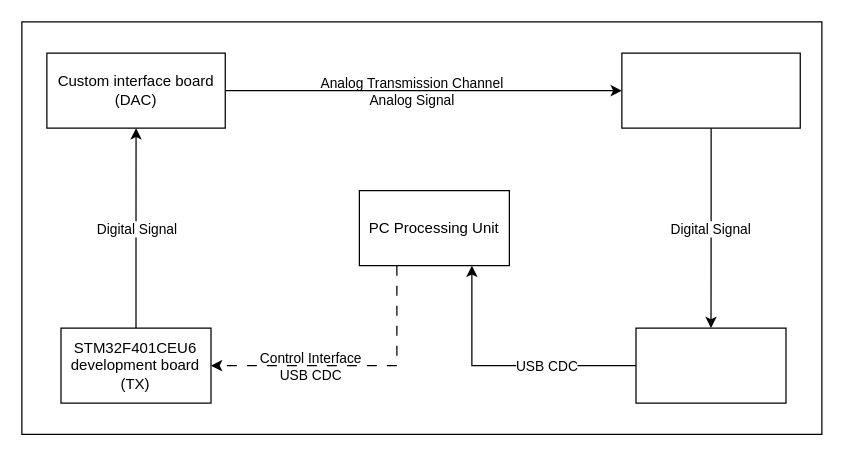
The diagram is 844 pixels wide and 456 high, and some of its shapes have lost their labels. The box of each missing label's shape, as (x1, y1, x2, y2) in pixels:
Custom interface board (ADC): (621, 52, 800, 128)
STM32F401CEU6 development board (RX): (635, 327, 786, 403)
